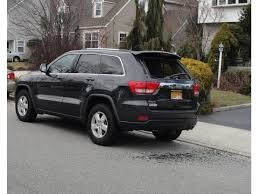Broken-glass: (137, 53, 191, 81)
Dent: (114, 84, 135, 109)
